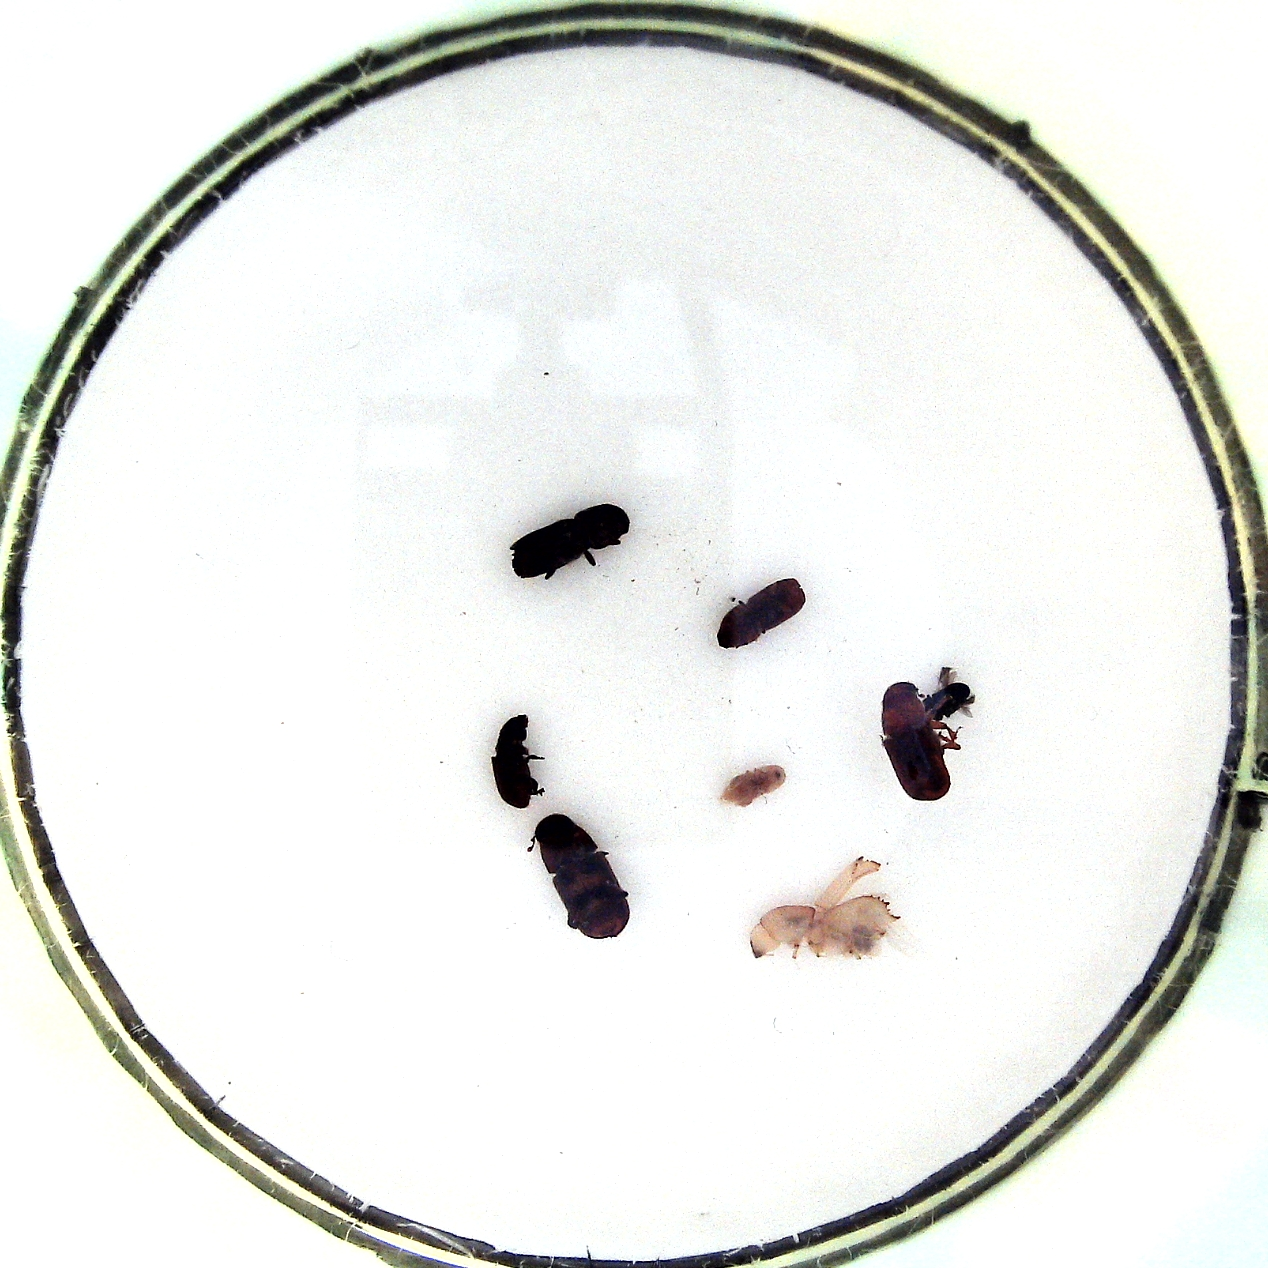Boerner: (748, 855, 905, 975), (506, 500, 632, 588)
Leconte: (529, 813, 631, 939), (878, 680, 948, 805)
Linnaeus: (715, 577, 812, 654)
acuminatus: (720, 761, 791, 813)
armandi: (484, 708, 547, 814)
coleoptera: (929, 662, 977, 718)
